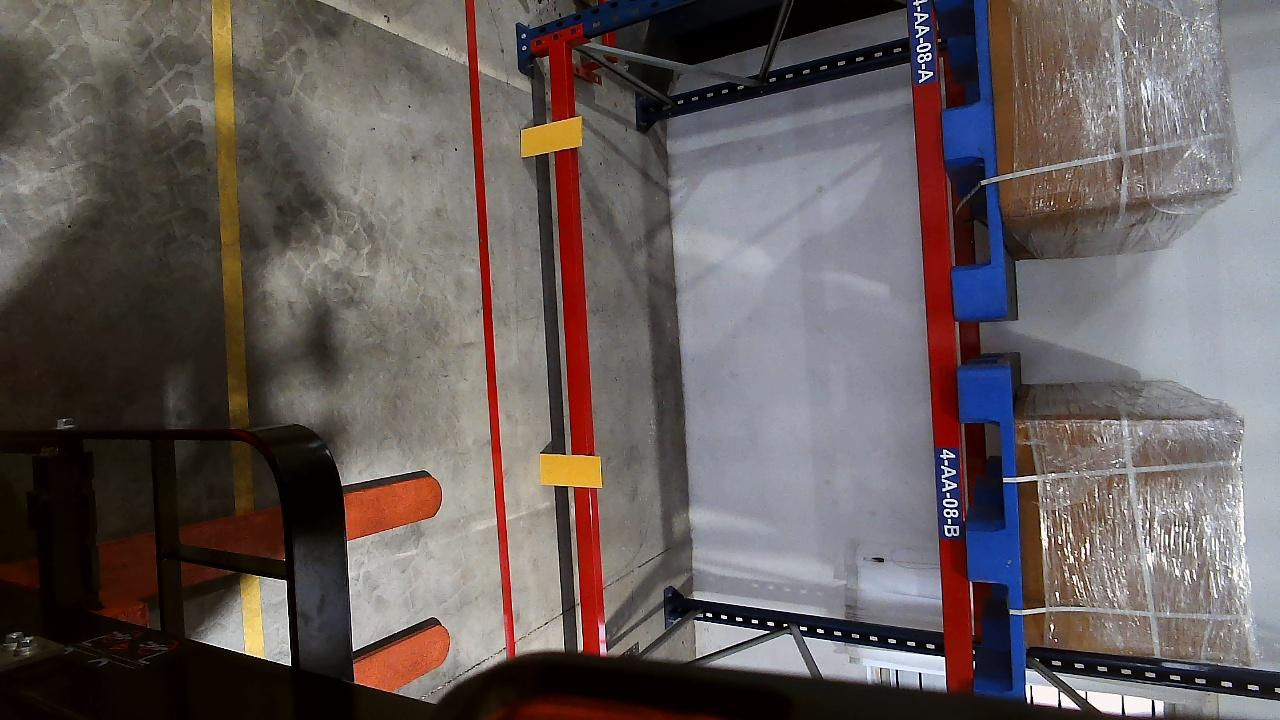h_rack: (905, 0, 977, 685), (550, 59, 598, 663)
orange_strip: (520, 116, 583, 157), (538, 454, 602, 488)
red_line: (466, 0, 517, 645)
small_pallet: (928, 0, 1012, 315), (957, 363, 1020, 696)
yellow_line: (211, 1, 252, 428)
